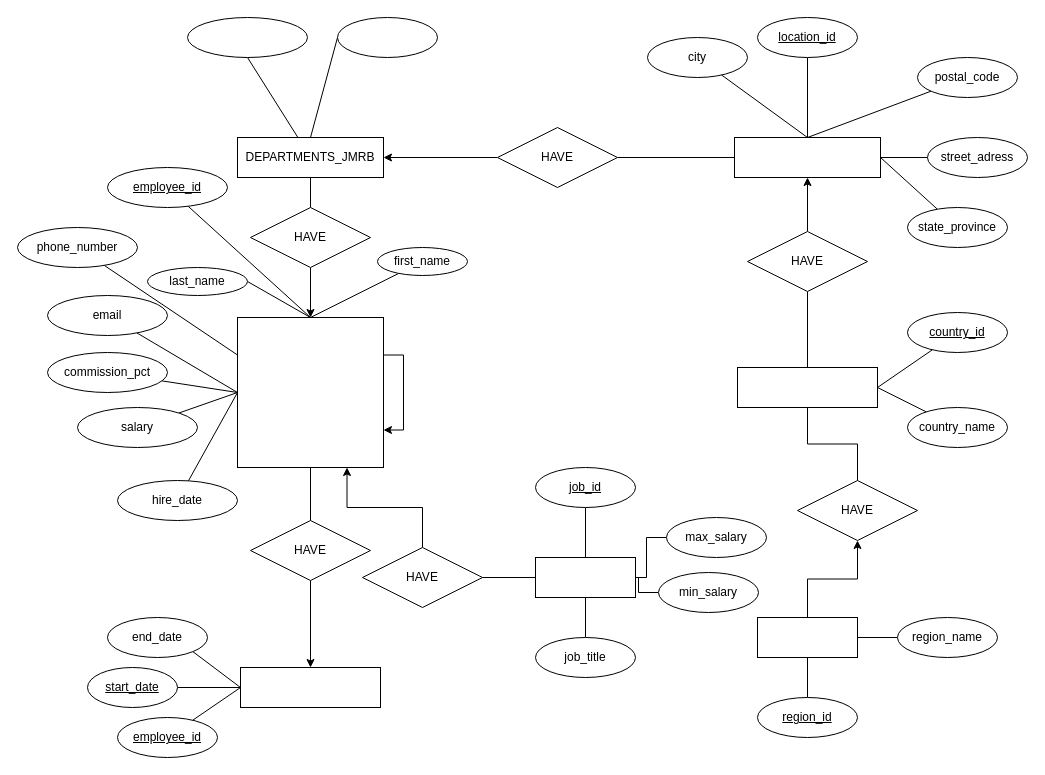
Some shapes in this 1045 by 775 pixel diagram are drawn without their labels. Here are the shapes that lost their labels. From the top down, the centre of each, then its label:
point 247,37: department_name
point 387,37: department_id
point 807,157: LOCATIONS_JMRB
point 310,392: EMPLOYEES_JMRB
point 807,387: COUNTRIES_JMRBB
point 585,577: JOB_JMRB
point 807,637: REGIONS_JMRB
point 310,687: JOB_HISTORY_JMRB
